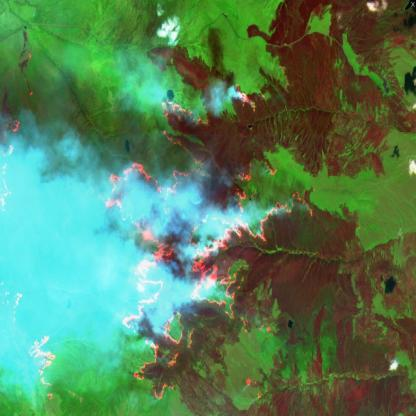fire: (95, 56, 317, 416), (0, 47, 61, 416)
